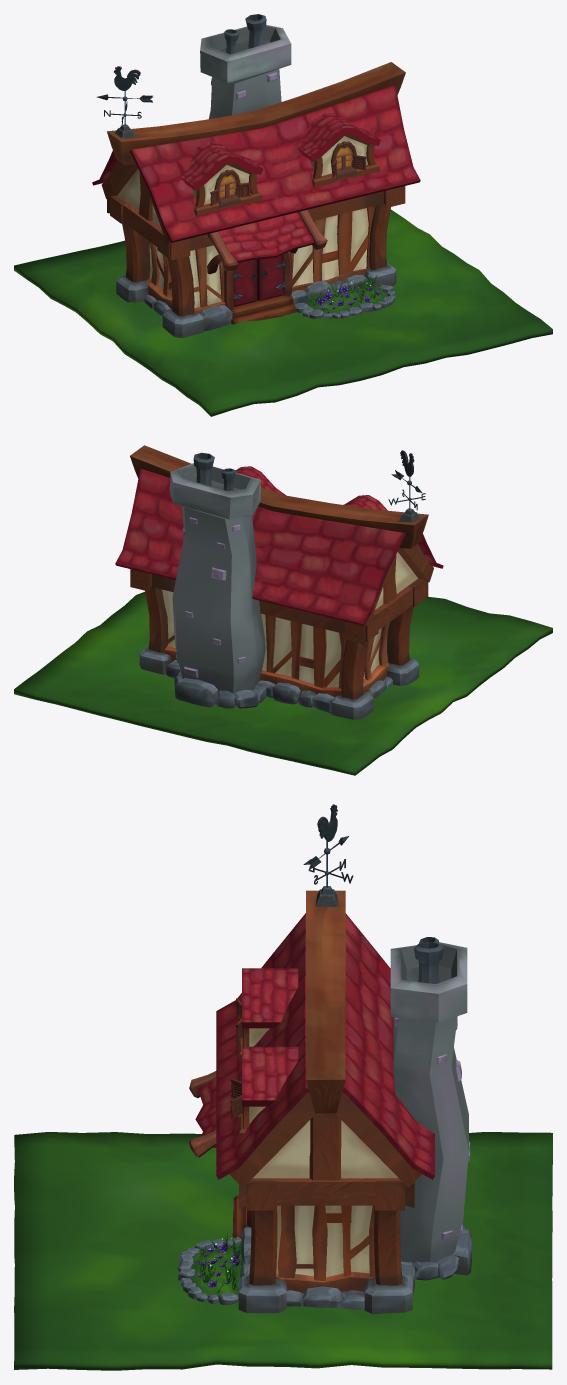
Rendered from house.glb.
3 views of the same model, one above another, from view 1: azimuth 30°, elevation 25°; view 2: azimuth 150°, elevation 25°; view 3: azimuth 270°, elevation 25° (orthographic). The views are drawn at different scales.
Parts seen in each view (by area): view 1: Plane.018, Plane.001, Cube.003, Plane.026, Plane.022, Cube.005, Plane.007, Plane, Cube.010, Plane.014, Plane.027, Cube.001 (+15 smaller); view 2: Plane.018, Plane.001, Plane.026, Cube.003, Plane.022, Plane.007, Plane.017, Plane, Plane.014, Cube.001, Cube.002, Plane.003 (+5 smaller); view 3: Plane.018, Plane.001, Plane.026, Cube.003, Cube.005, Plane.022, Plane.003, Plane.007, Plane, Cube.014, Cube.002, Plane.014 (+11 smaller).
Boxes of the visible parts, x1,y1,x2,y2 form: Plane.018: (14, 209, 552, 416); Plane.001: (92, 85, 420, 242); Cube.003: (107, 62, 405, 165); Plane.026: (200, 25, 291, 118); Plane.022: (147, 206, 375, 313); Cube.005: (180, 112, 380, 190); Plane.007: (122, 204, 390, 316); Plane: (149, 208, 368, 308); Cube.010: (219, 212, 314, 262); Plane.014: (116, 263, 396, 337); Plane.027: (234, 255, 283, 306); Cube.001: (110, 191, 383, 258); Plane.018: (14, 592, 552, 775); Plane.001: (115, 469, 443, 625); Plane.026: (170, 463, 265, 692); Cube.003: (130, 445, 428, 548); Plane.022: (164, 614, 389, 696); Plane.007: (145, 587, 413, 699); Plane.017: (166, 660, 334, 713); Plane: (162, 589, 381, 687); Plane.014: (139, 646, 419, 719); Cube.001: (152, 574, 425, 641); Cube.002: (130, 569, 428, 643); Plane.003: (364, 544, 433, 626); Plane.018: (14, 1132, 552, 1370); Plane.001: (216, 913, 434, 1179); Plane.026: (390, 942, 468, 1262); Cube.003: (306, 890, 345, 1113); Cube.005: (242, 968, 298, 1106); Plane.022: (276, 1205, 375, 1293); Plane.003: (229, 1092, 421, 1187); Plane.007: (249, 1205, 402, 1285); Plane: (276, 1205, 372, 1277); Cube.014: (253, 1120, 398, 1178); Cube.002: (239, 1178, 414, 1208); Plane.014: (238, 1274, 412, 1314).
Size of the model in its own units: 1760 by 1281 by 1758.
Materials: 6 (5 with a texture image).
